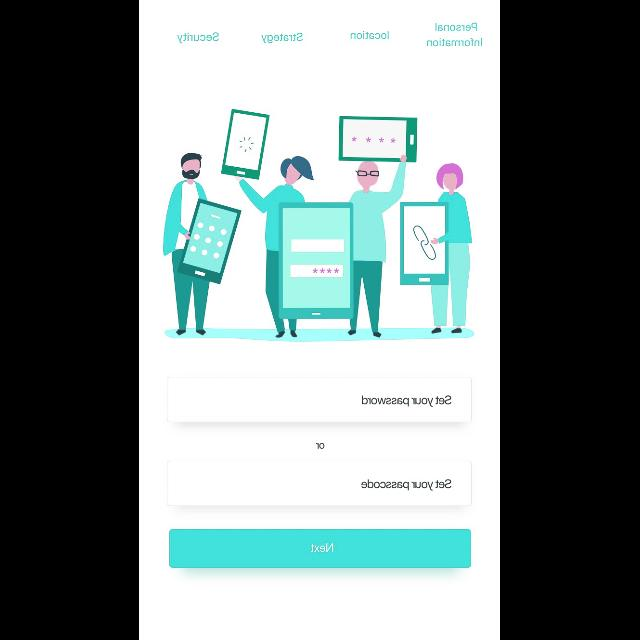image: (163, 110, 475, 342)
input: (168, 460, 472, 506), (168, 378, 472, 422)
text: (428, 23, 482, 47), (362, 395, 452, 407), (362, 480, 452, 490), (178, 32, 220, 44), (350, 30, 390, 40), (262, 34, 302, 44), (316, 443, 326, 449)
textbutton: (170, 528, 472, 568)
